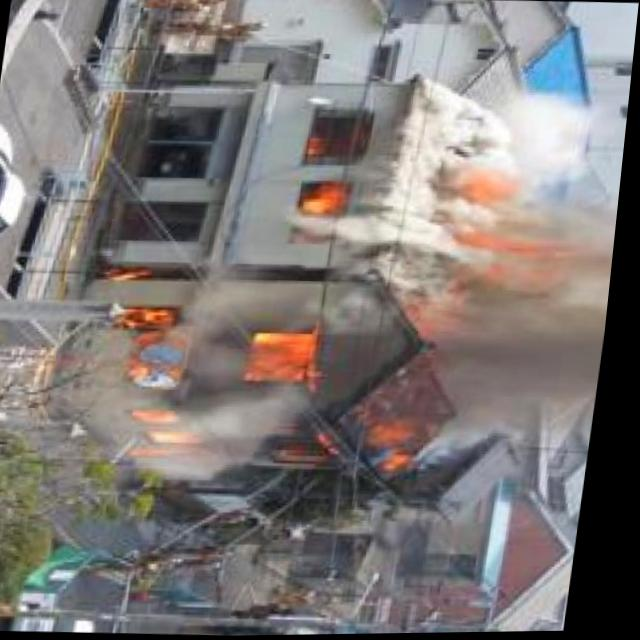Fire: (97, 301, 445, 477), (461, 161, 560, 279), (302, 125, 356, 212)
